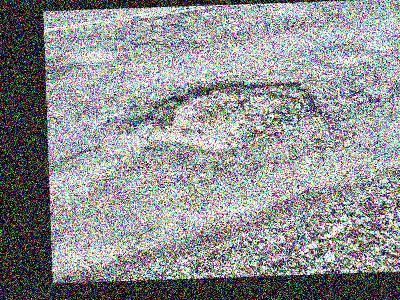pothole: (126, 75, 334, 160)
